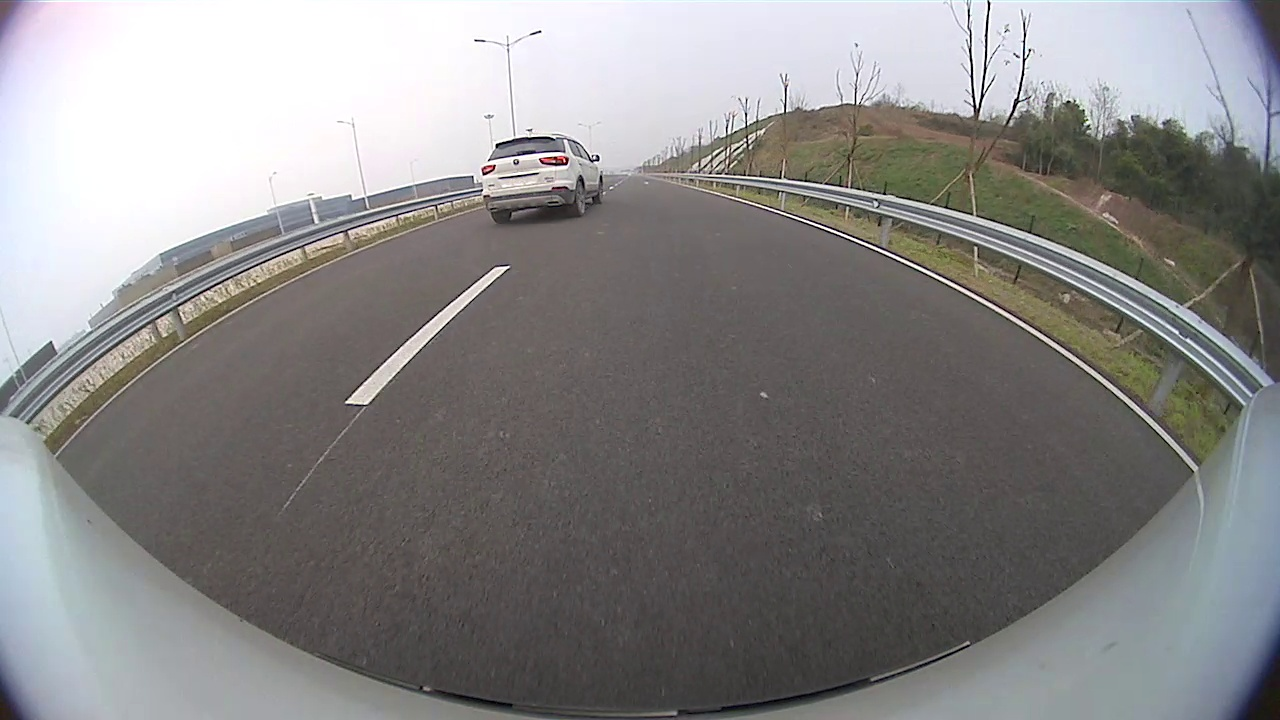car: (480, 133, 605, 228)
rear: (576, 183, 586, 218)
